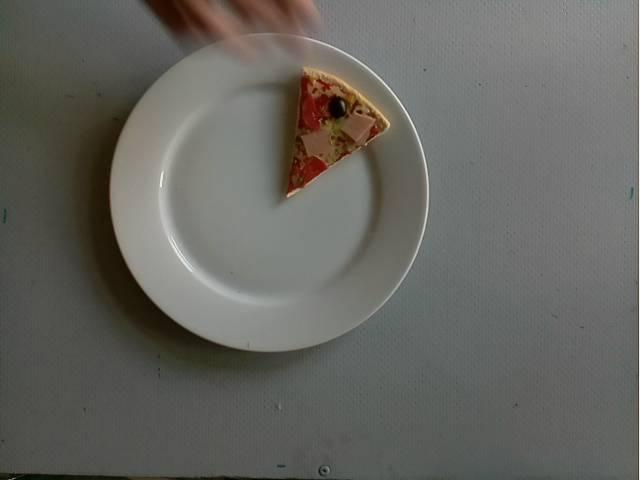Pizza slice (ham): (288, 65, 389, 194)
